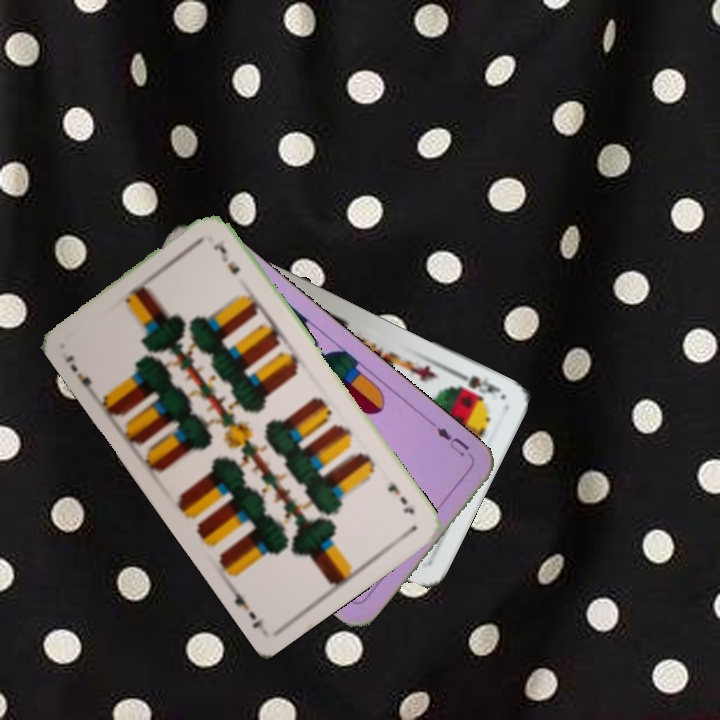E7: (61, 351, 97, 398), (383, 479, 418, 517)
EU: (427, 418, 476, 462)
SK: (450, 366, 504, 402)
